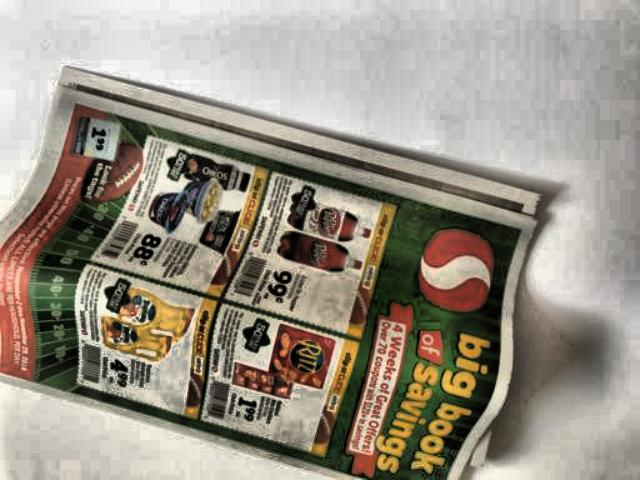Paper: (0, 54, 546, 480)
